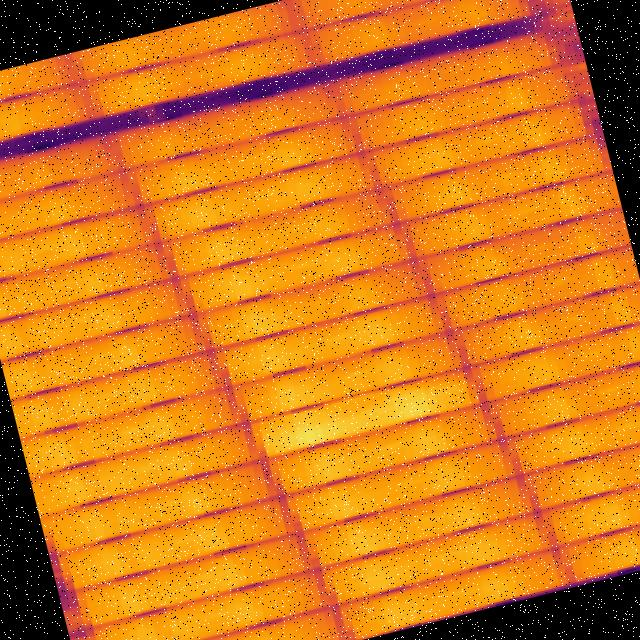Hotspot: (259, 375, 463, 454)
